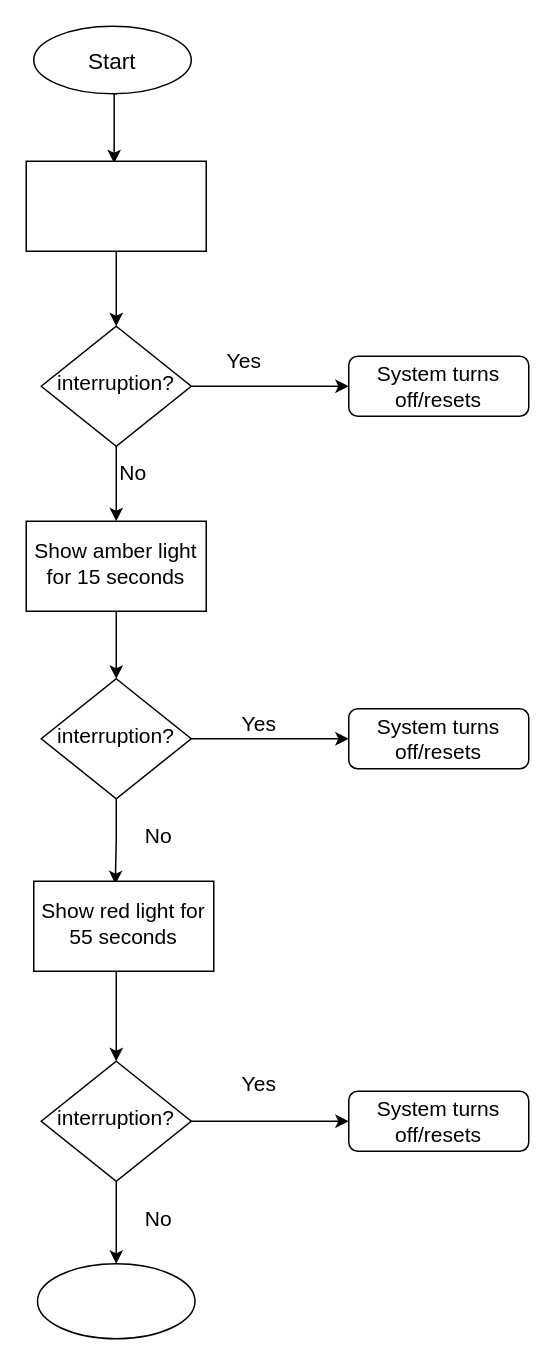
Image size: 555x1365. Some labels were removed from this diagram. The shapes that lost their labels are listed below. From the top down, each one's centre as x and y in pixels, then its label:
At (x=115, y=205): "Show green light for 40 seconds".
At (x=115, y=1300): "End".
